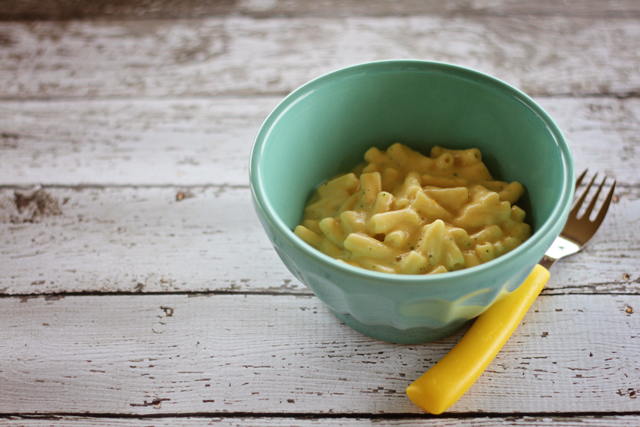macncheese: (296, 130, 530, 273)
